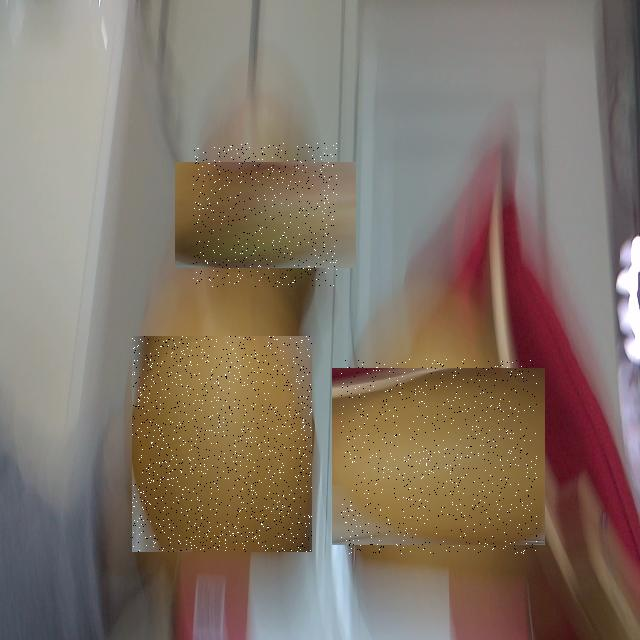apple: (193, 143, 337, 287)
pear: (132, 336, 312, 552), (341, 359, 537, 554)
